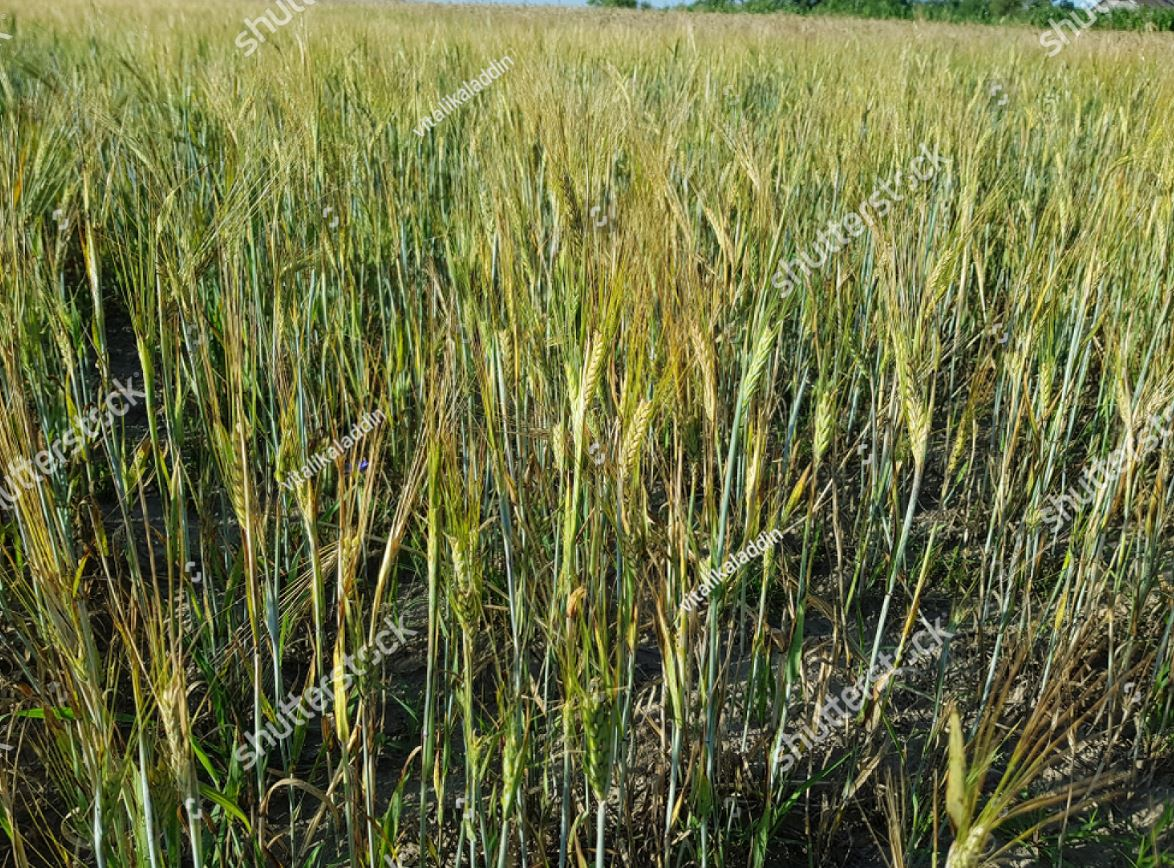Wheat: (218, 206, 778, 577)
